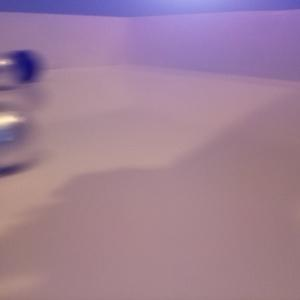alive_ball: (1, 101, 38, 170), (1, 54, 22, 89)
dead_ball: (3, 52, 39, 82)
